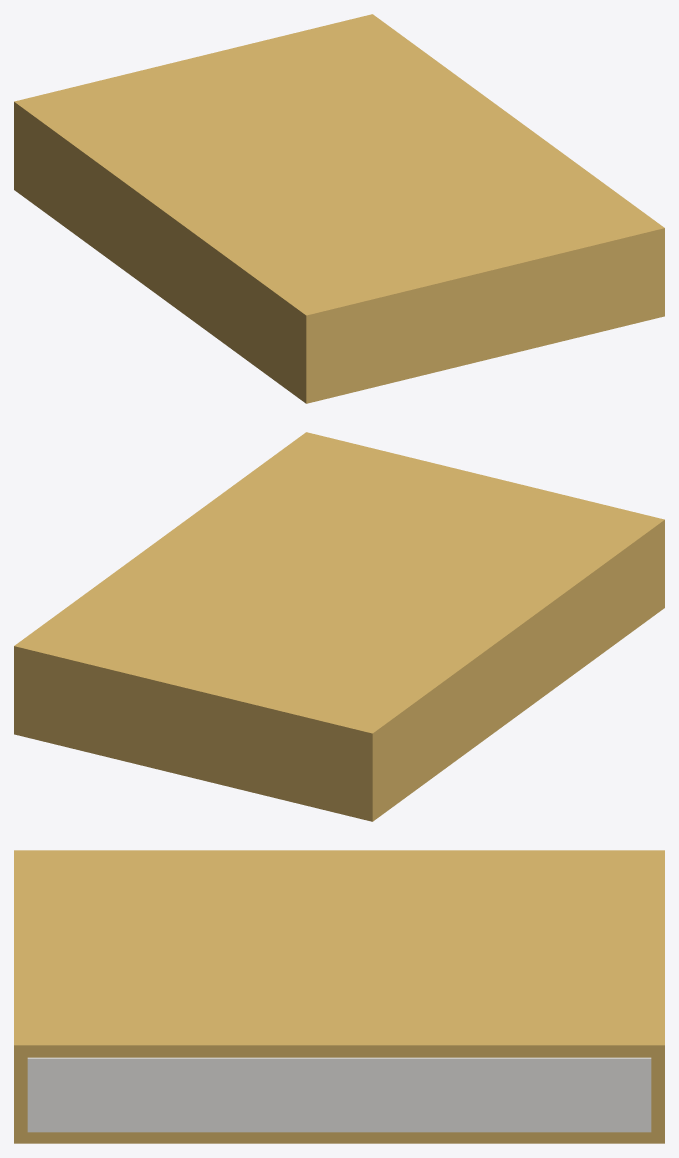
File: Book.fbx
The picture shows the model from 3 angles, top to bottom: view 1: azimuth 30°, elevation 25°; view 2: azimuth 150°, elevation 25°; view 3: azimuth 270°, elevation 25°; orthographic projection. The views are drawn at different scales.
Parts seen in each view (by area): view 1: Book.001; view 2: Book.001; view 3: Book.001.
Part boxes in pixels (x1,y1,x2,y2): Book.001: (14, 14, 664, 403); Book.001: (14, 432, 664, 821); Book.001: (14, 850, 664, 1143).
Size of the model in its own units: 0.171 by 0.04 by 0.24.
